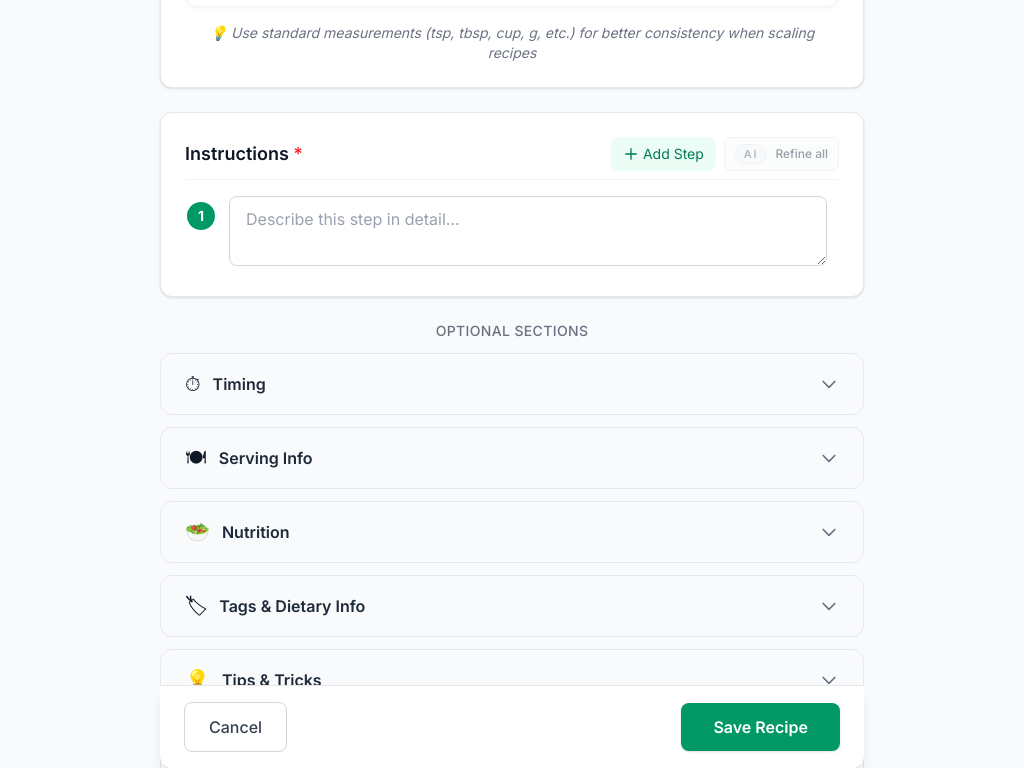
SimpleCreateRecipe › sections expand and collapse independently
(page scrolled)
Click the button "⏱ Timing" at [239, 384], box [161,354,863,414]
(page scrolled)
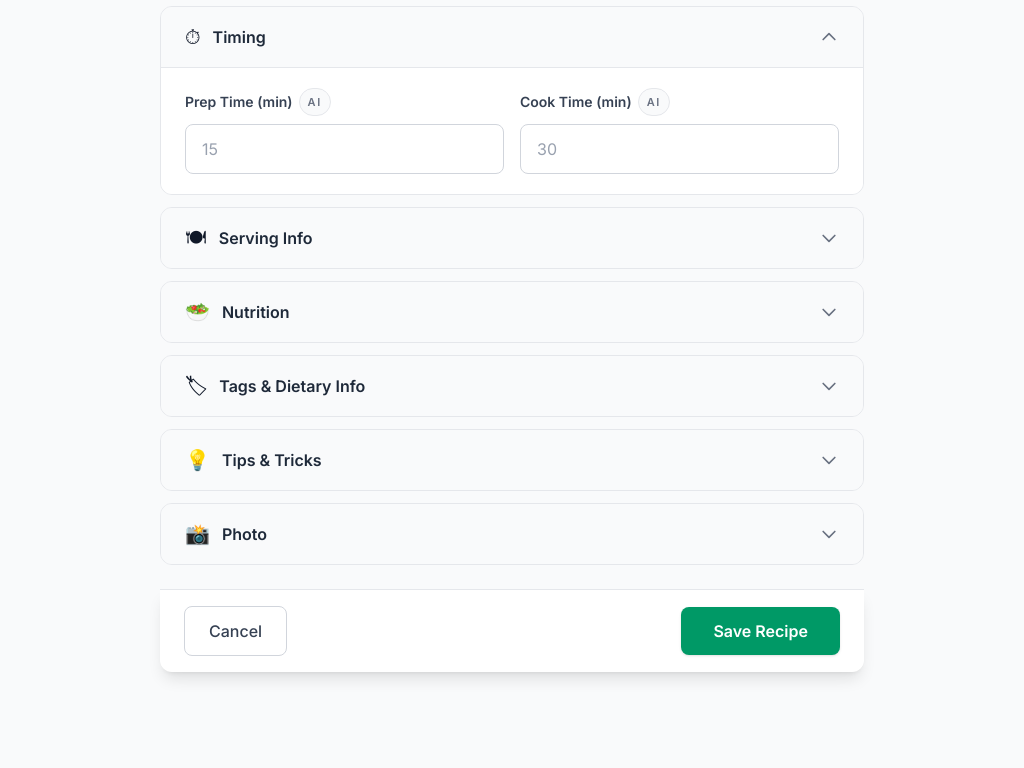
Click the button "📸 Photo" at [244, 534], box [161,504,863,564]
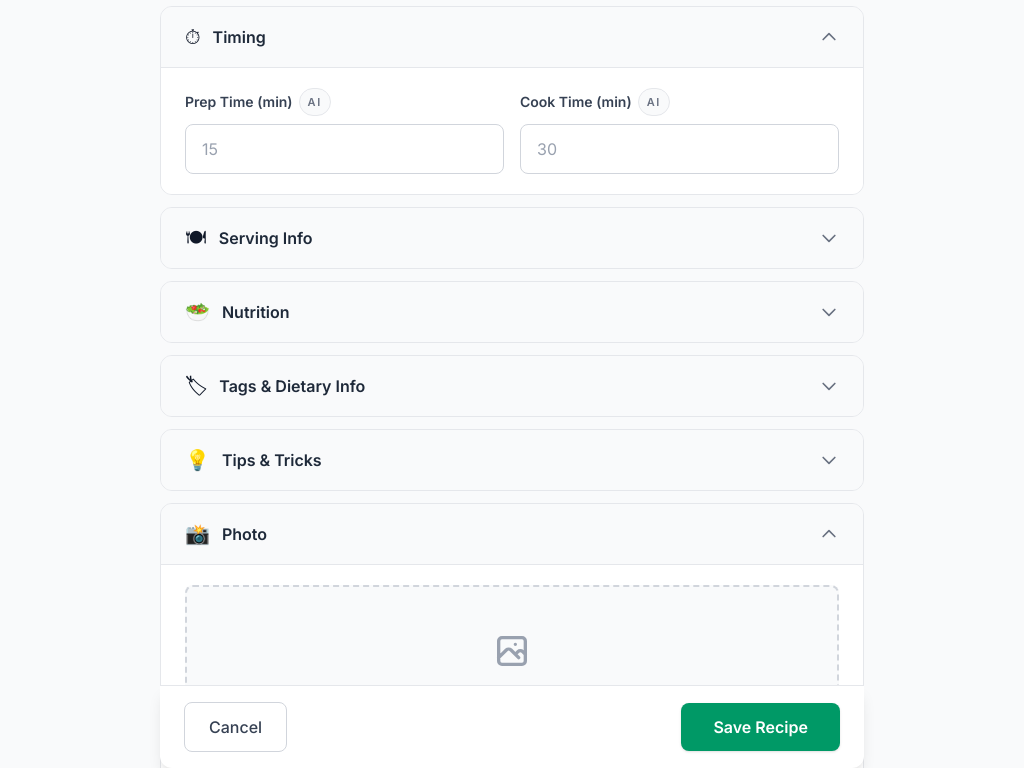
Now the button "⏱ Timing" is expanded, box [161,7,863,67]
Now the button "📸 Photo" is expanded, box [161,504,863,564]
